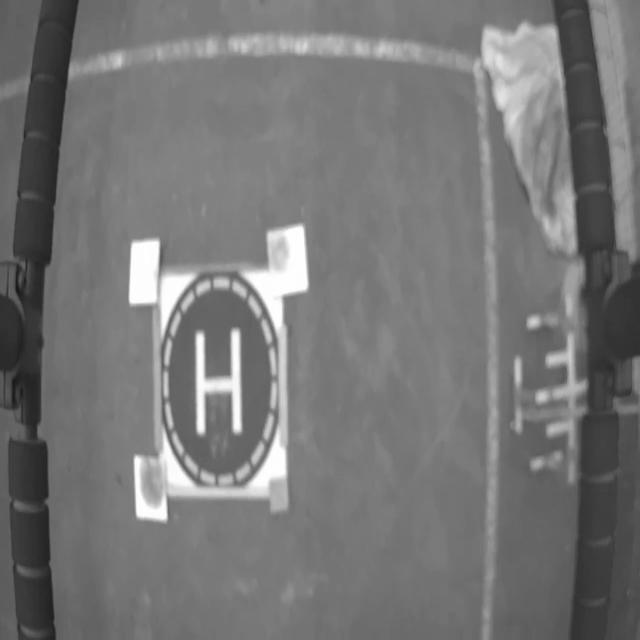Helipad: (194, 325, 243, 436)
